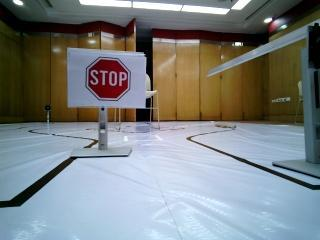stop: (69, 50, 145, 107)
